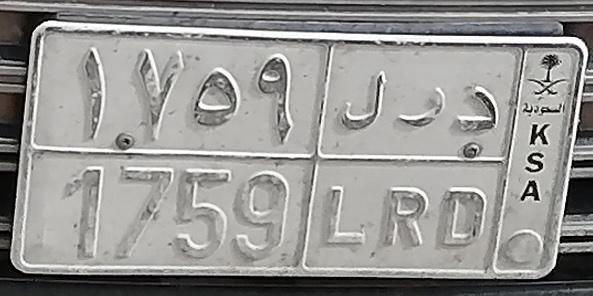1: (58, 43, 111, 261)
5: (174, 68, 241, 259)
7: (112, 49, 183, 261)
9: (237, 54, 297, 260)
D: (441, 85, 499, 252)
L: (322, 67, 386, 249)
R: (381, 84, 447, 250)
